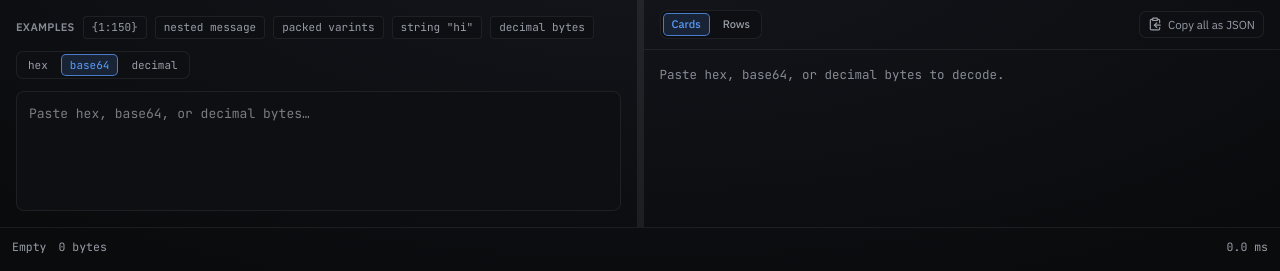
ProtobufDecoder › segment clicks still force + click-active-clears after a chip click (sticky force unchanged)
The image size is (1280, 271).
// Chip click → decimal auto-detected (no override stored).
Click the button "decimal bytes".
click(542, 27)  # box [490,16,594,38]
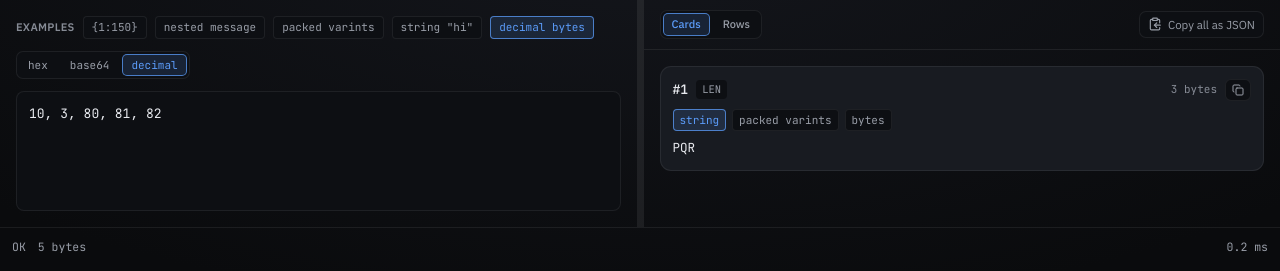
Expected: the button "decimal" is pressed, [122,54,187,76]
// Segment click still FORCES a sticky override post-chip.
Click the button "hex".
click(38, 65)  # box [19,54,57,76]
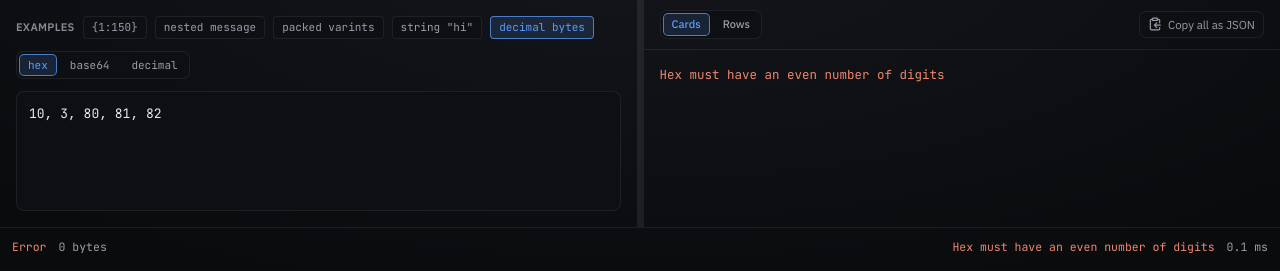
Expected: the button "hex" is pressed
Expected: the button "decimal" is not pressed, [122,54,187,76]
Click the button "hex".
click(38, 65)  # box [19,54,57,76]
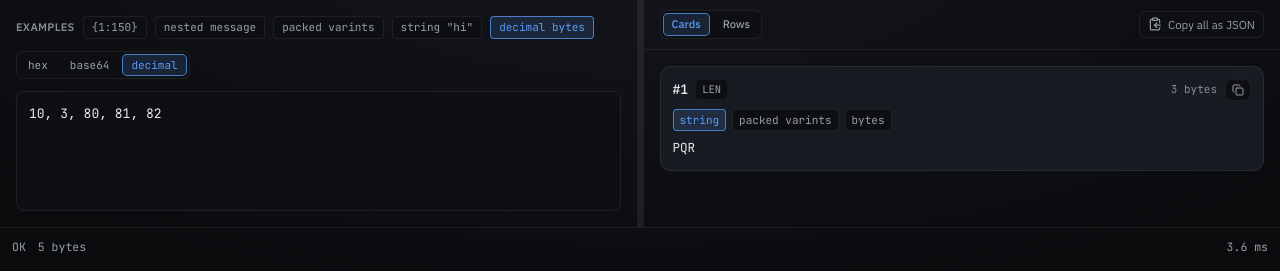
Expected: the text "#1" is shown, [672,80,688,99]
Expected: the message "Hex must have an even number of digits" is gone
